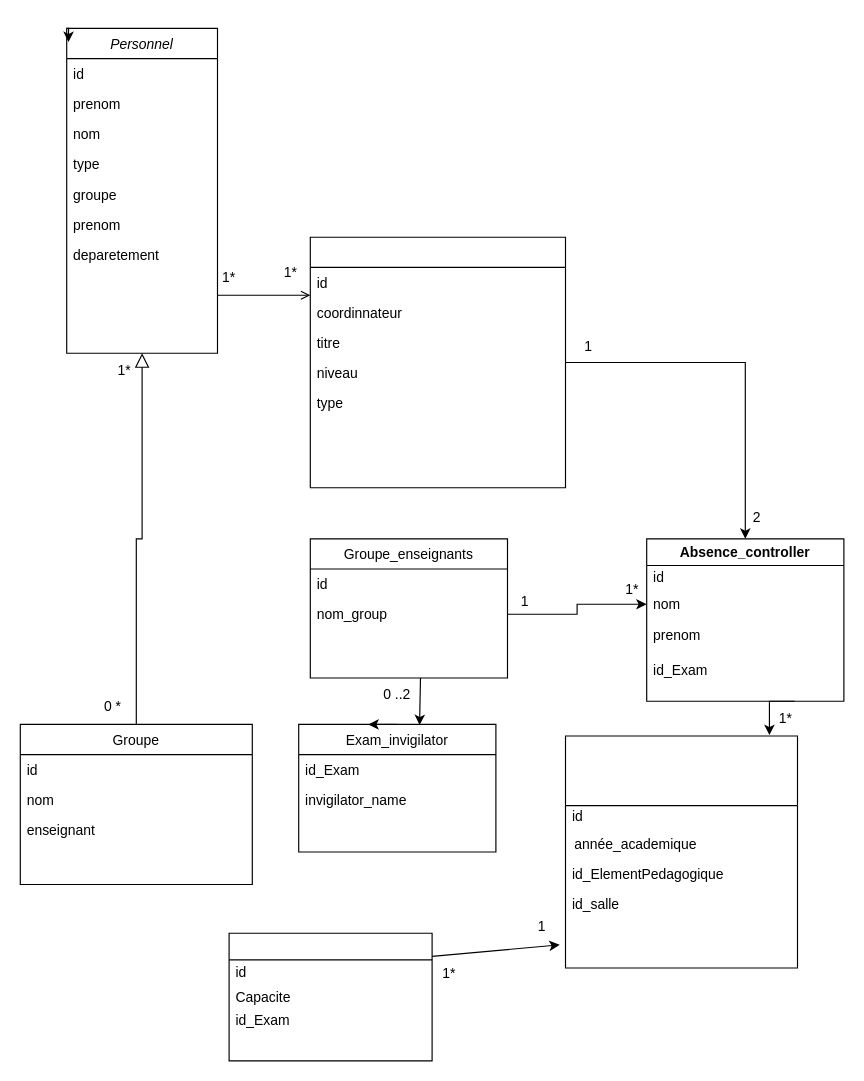
Some shapes in this 864 by 1081 pixel diagram are drawn without their labels. Here are the shapes that lost their labels. From the top down, the box of each, then its label:
(309, 236, 566, 488): ElementPedagogique
(564, 735, 798, 968): Exam
(228, 932, 432, 1061): Salle
